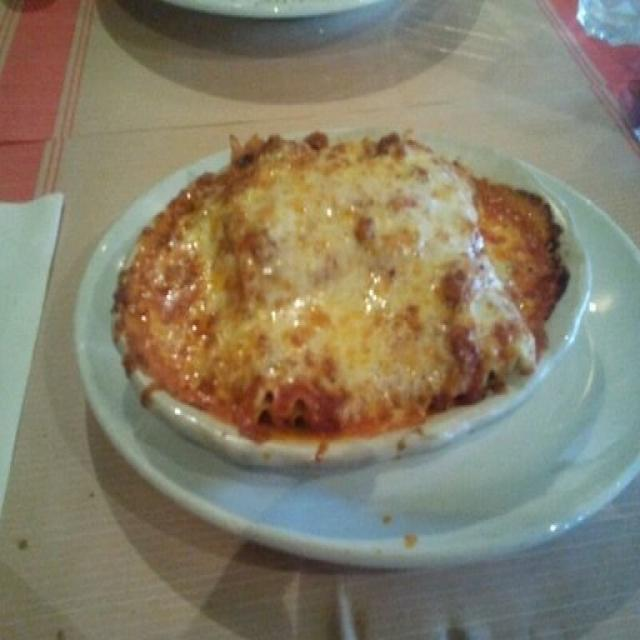Lasagna: (132, 142, 570, 456)
